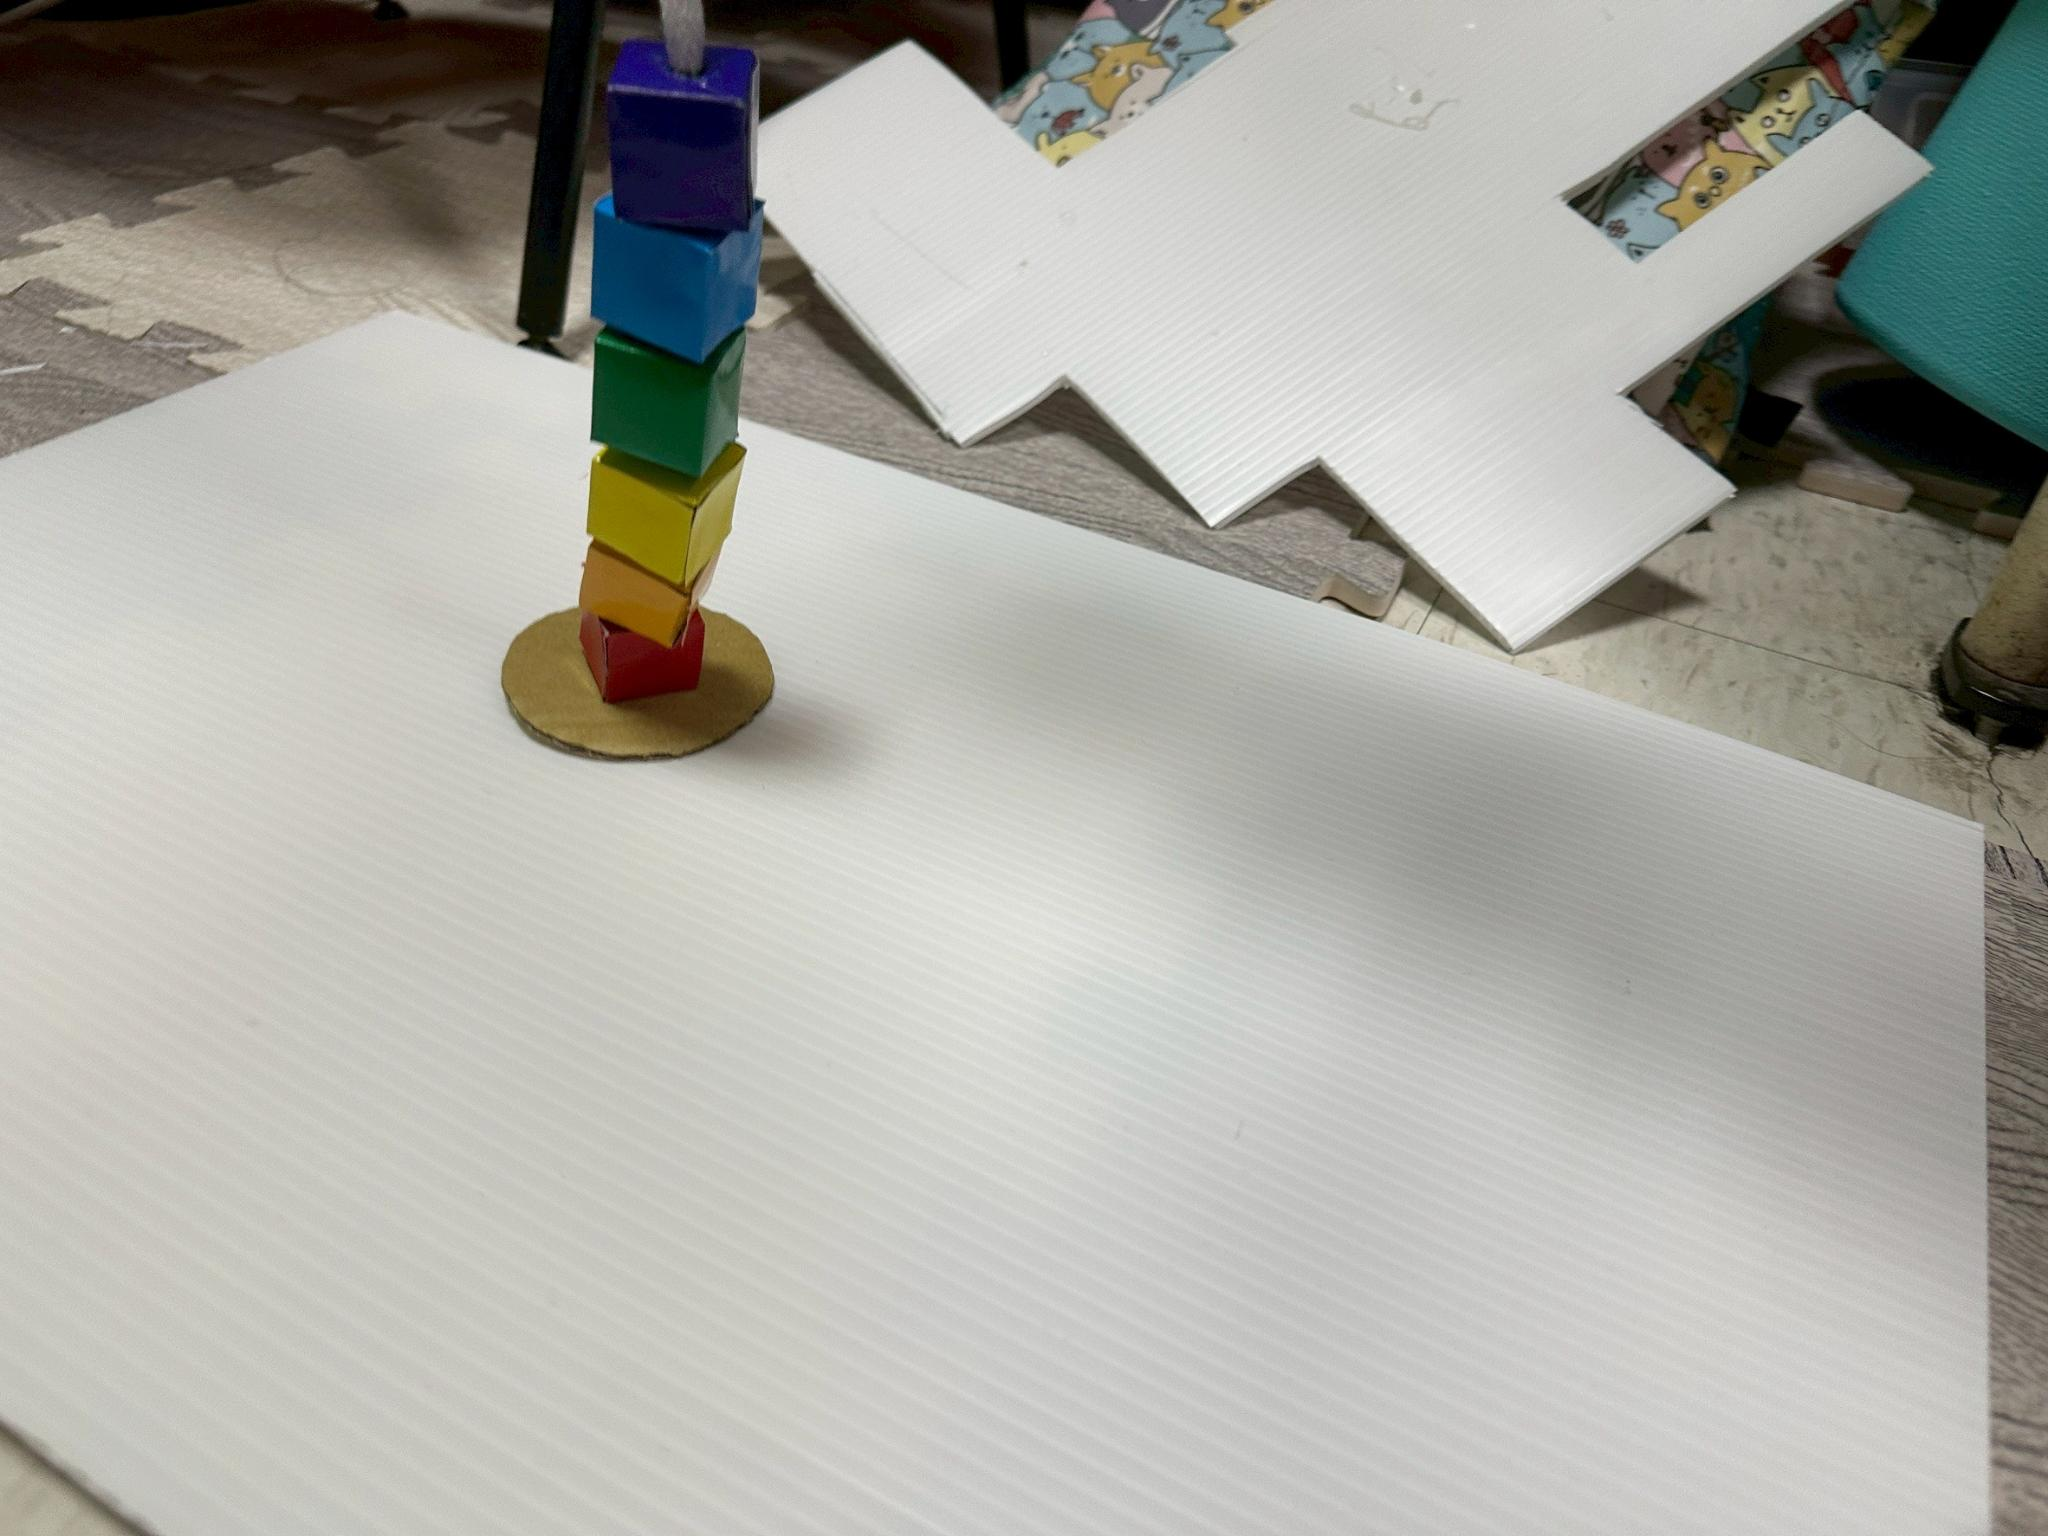base: (592, 195, 763, 361), (587, 440, 745, 589), (592, 326, 745, 478), (579, 539, 718, 649), (581, 611, 706, 703)
